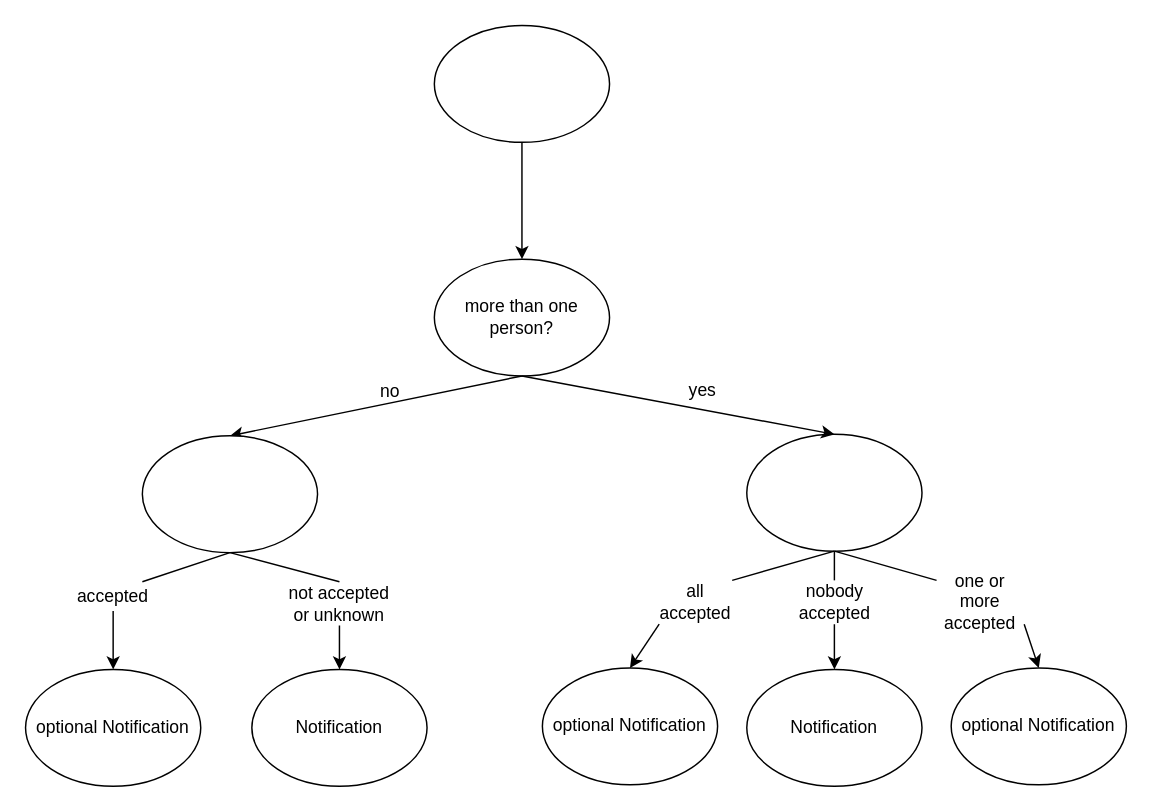
Image size: 1152x812. Some labels were removed from this diagram. Each missing label, with the centre of its shape:
Camera recognizes person: the point at 521,83
Peoples' status: the point at 833,492
Person's status?: the point at 229,493
